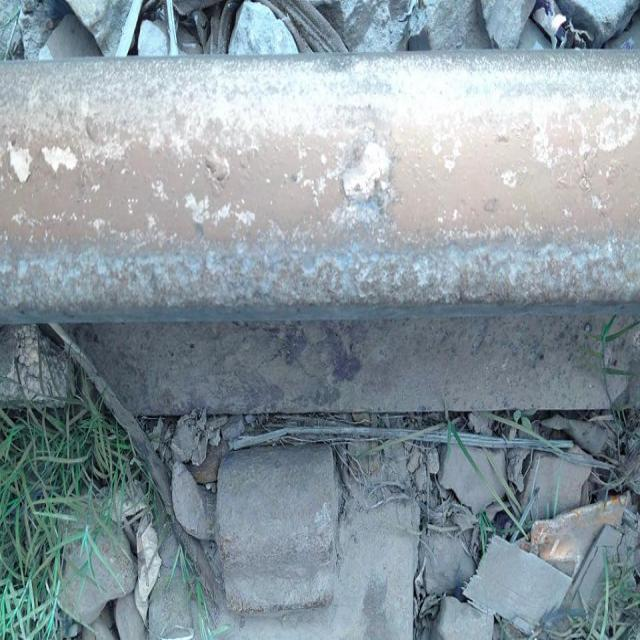Missing Fastener: (215, 441, 341, 612)
